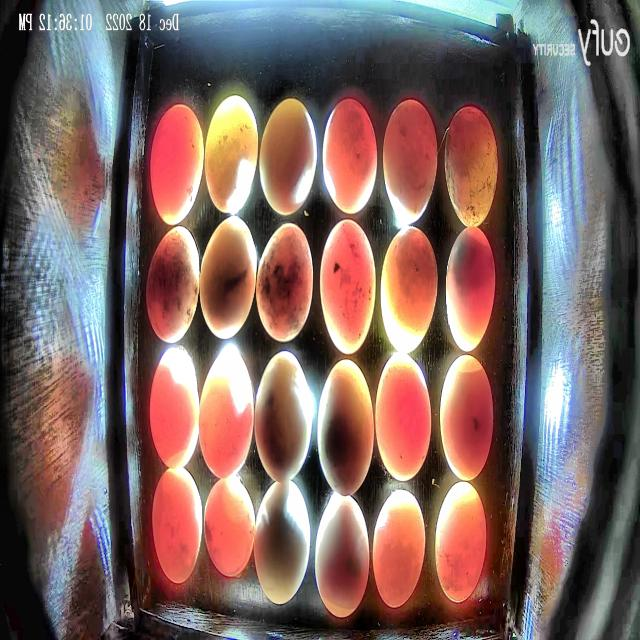DE: (319, 217, 376, 355), (380, 226, 440, 355), (318, 359, 374, 496), (254, 351, 311, 482), (375, 352, 432, 480), (200, 216, 258, 341), (381, 99, 438, 225), (199, 349, 253, 478), (255, 223, 314, 341), (255, 478, 310, 604), (443, 105, 499, 228), (314, 496, 370, 618), (260, 97, 317, 215), (372, 488, 427, 610), (205, 92, 259, 216), (440, 354, 493, 480), (150, 102, 204, 224), (435, 481, 488, 603), (322, 97, 377, 214), (445, 228, 496, 352), (146, 226, 200, 343), (152, 467, 204, 584), (150, 347, 199, 469), (203, 478, 256, 577)
